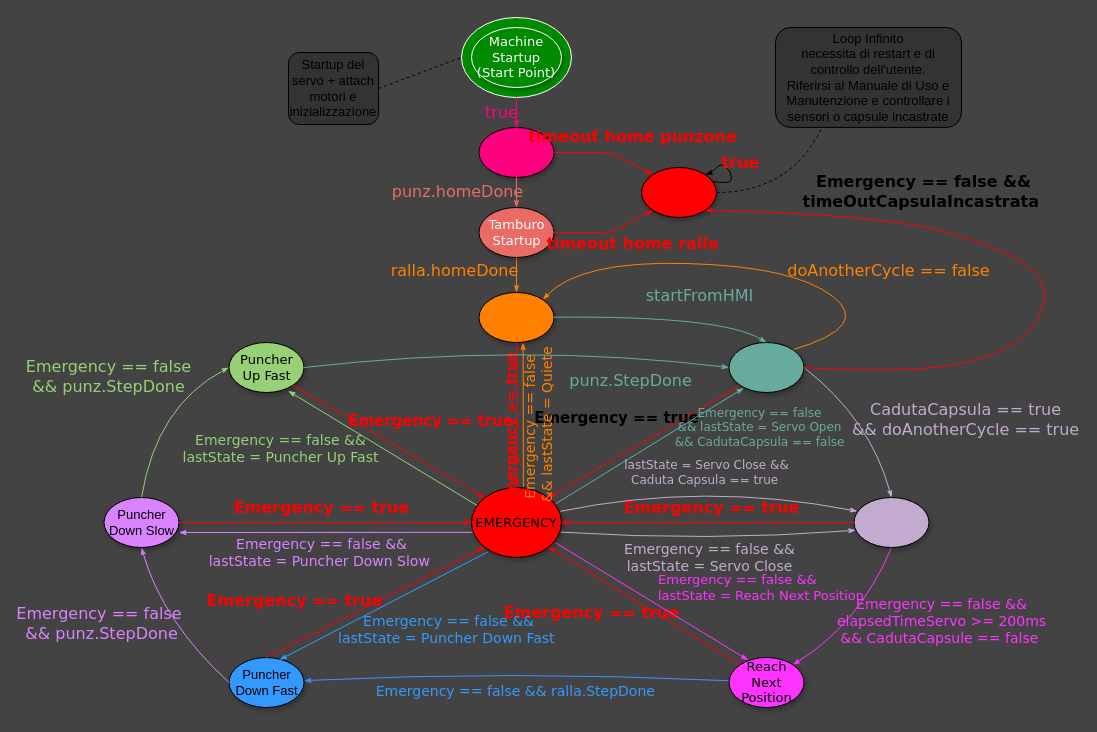
This 1097x732 diagram has some shape labels left out. The shapes that lost their labels are listed below. From the top down, each one's centre as x and y in pixels, then its label:
At (x=517, y=153): "Punzone Startup".
At (x=679, y=193): "Timeout".
At (x=517, y=319): "Quiete".
At (x=767, y=369): "Servo Open".
At (x=892, y=523): "Servo Close".
